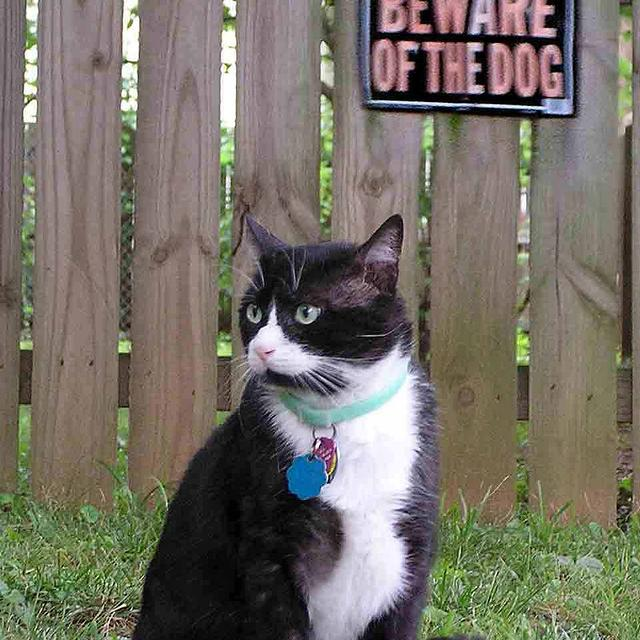animals: (245, 212, 397, 359)
